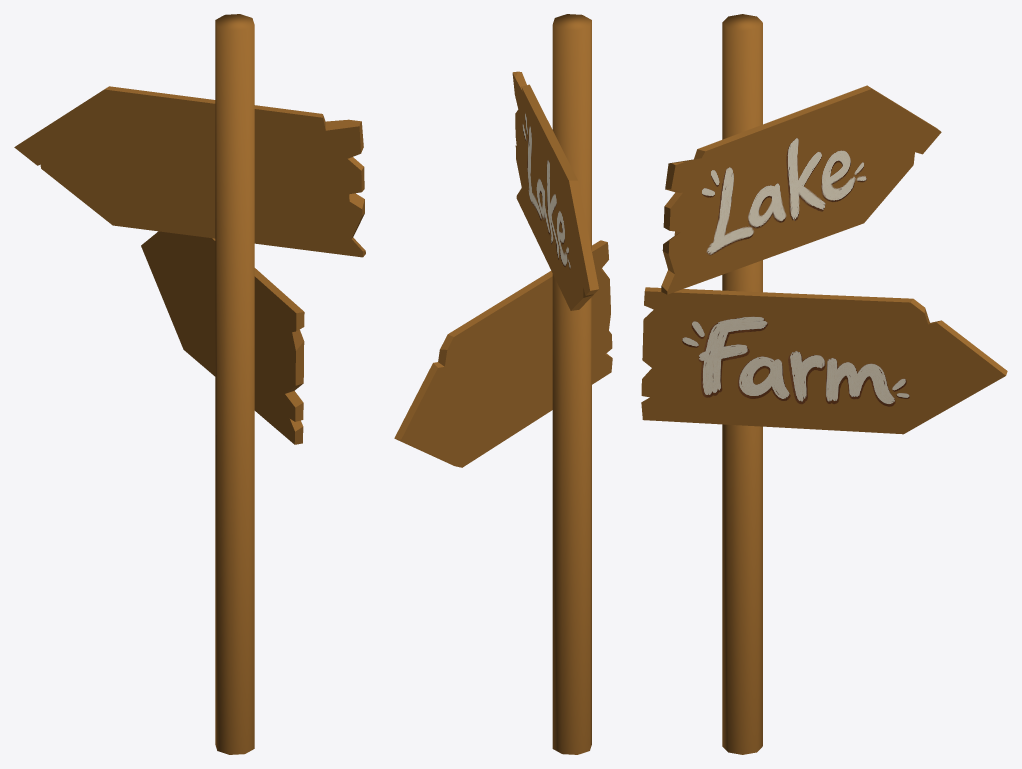
The model's file is roadSign.glb.
The picture shows the model from 3 angles, left to right: view 1: azimuth 30°, elevation 25°; view 2: azimuth 150°, elevation 25°; view 3: azimuth 270°, elevation 25°; orthographic projection.
Parts seen in each view (by area): view 1: roadSign; view 2: roadSign; view 3: roadSign.
Boxes of the visible parts, bbox=[...] form: roadSign: bbox=[14, 14, 365, 754]; roadSign: bbox=[394, 14, 612, 754]; roadSign: bbox=[641, 14, 1007, 754].
Size of the model in its own units: 3.57 by 11.39 by 5.22.
1 material, 1 textured.
